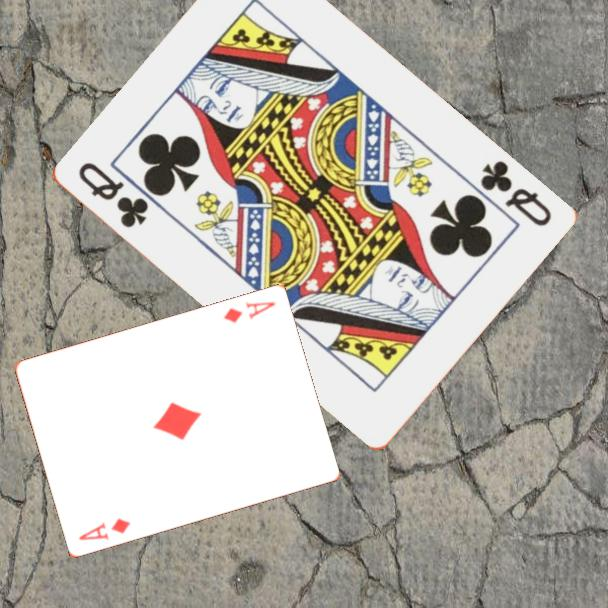c12: (476, 156, 554, 230), (73, 158, 151, 231)
d01: (75, 515, 134, 544), (220, 299, 279, 326)
